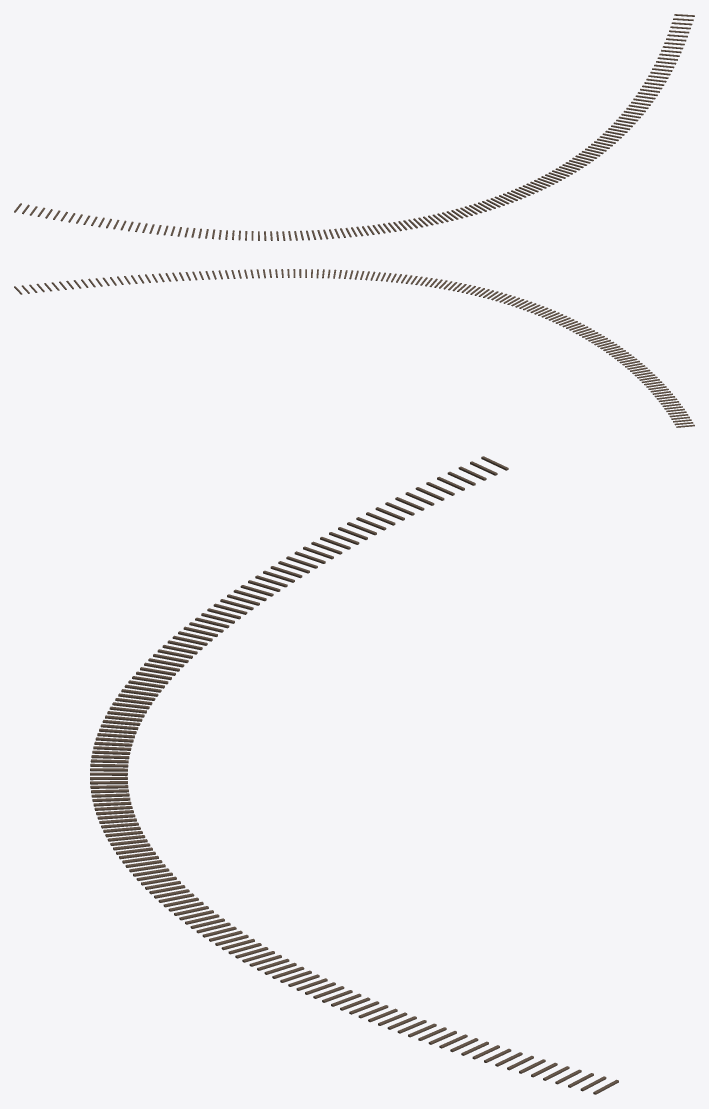
The model's file is SM_Sleepers.fbx.
3 views of the same model, one above another, from view 1: azimuth 30°, elevation 25°; view 2: azimuth 150°, elevation 25°; view 3: azimuth 270°, elevation 25° (orthographic). The views are drawn at different scales.
Visible parts, largest first — view 1: SM_Sleepers; view 2: SM_Sleepers; view 3: SM_Sleepers.
Part boxes in pixels (left/top/right/bottom): SM_Sleepers: left=14, top=14, right=694, bottom=240; SM_Sleepers: left=14, top=269, right=694, bottom=427; SM_Sleepers: left=90, top=456, right=618, bottom=1094.
Bounding box in the file's own units: 10135 × 3557 × 167.
